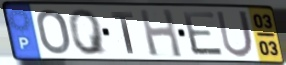E: (180, 10, 227, 58)
H: (137, 8, 185, 60)
O: (35, 8, 72, 56)
Q: (66, 8, 110, 57)
T: (109, 11, 136, 56)
U: (214, 9, 256, 59)
